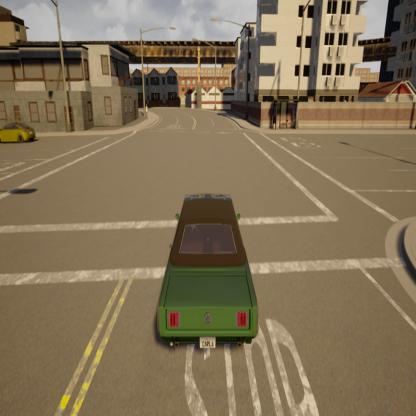Cars: (142, 183, 262, 364)
Pedestrian: (142, 104, 150, 121)
